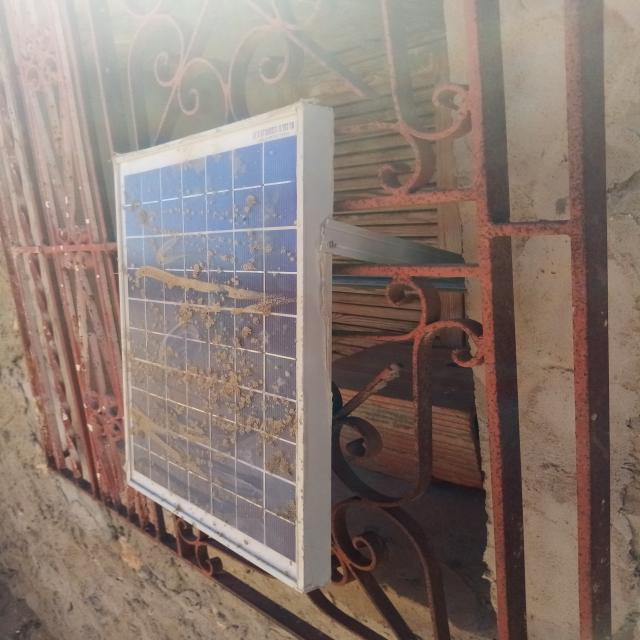faulty: (119, 105, 304, 588)
